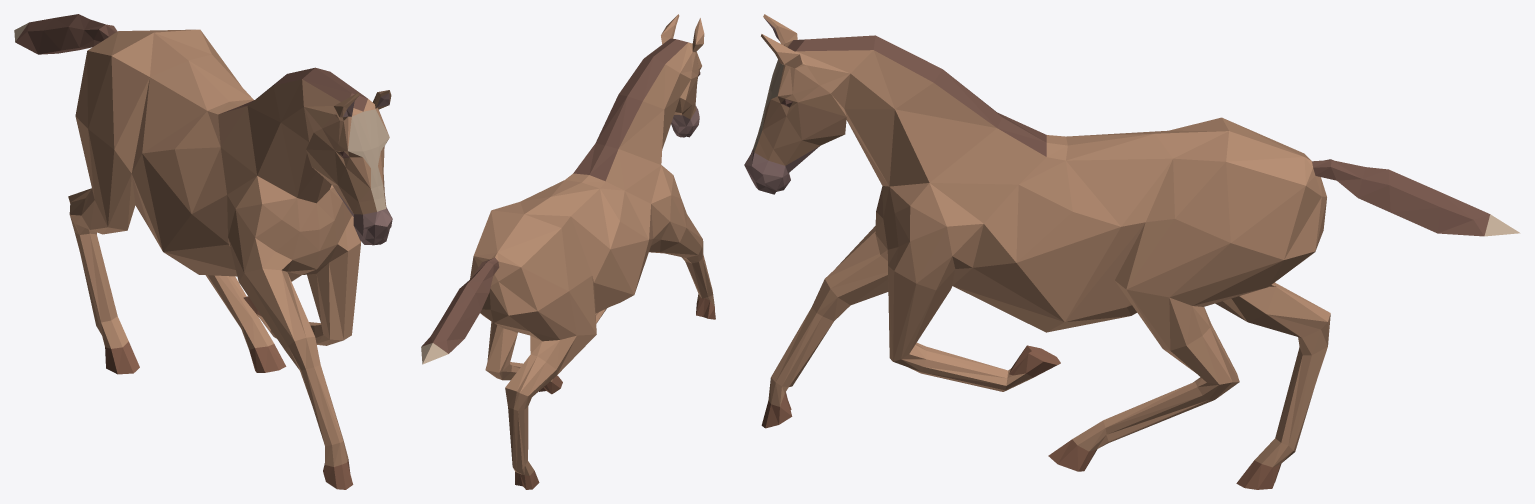
File: Horse.glb
The picture shows the model from 3 angles, left to right: view 1: azimuth 30°, elevation 25°; view 2: azimuth 150°, elevation 25°; view 3: azimuth 270°, elevation 25°; orthographic projection. The views are drawn at different scales.
Visible parts, largest first — view 1: mesh_0; view 2: mesh_0; view 3: mesh_0.
Part boxes in pixels (x1,y1,x2,y2): mesh_0: [14, 14, 392, 489]; mesh_0: [421, 14, 715, 489]; mesh_0: [744, 14, 1520, 489].
Bounding box in the file's own units: 63.53 × 187 × 278.
